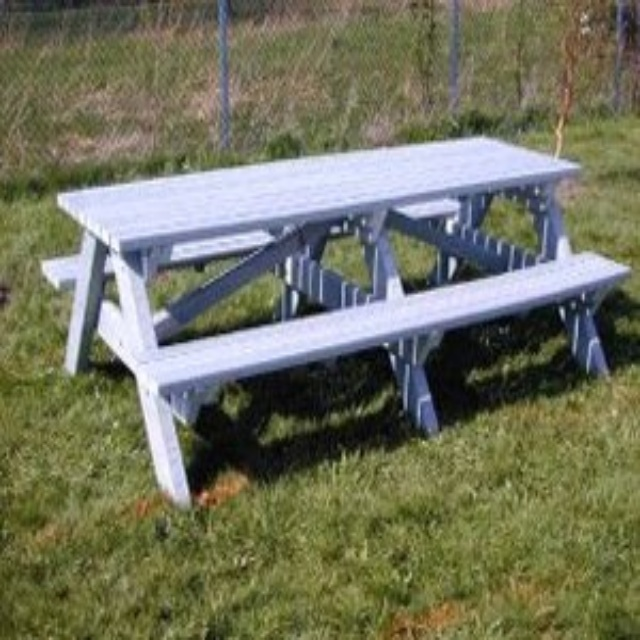obstacle: (21, 119, 627, 524)
